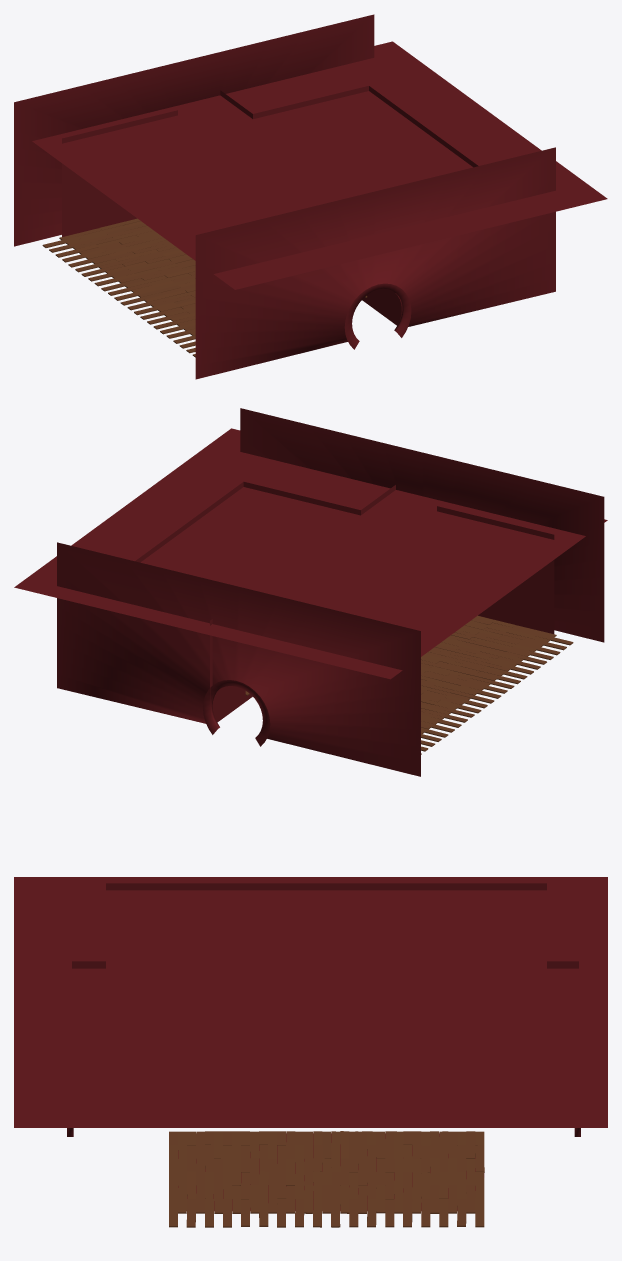
Rendered from room.fbx.
The picture shows the model from 3 angles, top to bottom: view 1: azimuth 30°, elevation 25°; view 2: azimuth 150°, elevation 25°; view 3: azimuth 270°, elevation 25°; orthographic projection. The views are drawn at different scales.
Visible parts, largest first — view 1: Plane.003; view 2: Plane.003; view 3: Plane.003.
Part boxes in pixels (x1=…): Plane.003: x1=14, y1=14, x2=607, y2=379; Plane.003: x1=14, y1=408, x2=607, y2=776; Plane.003: x1=14, y1=877, x2=607, y2=1227.
Size of the model in its own units: 2502 by 925 by 2387.
